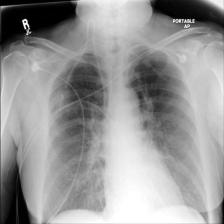normal: (42, 47, 209, 224)
